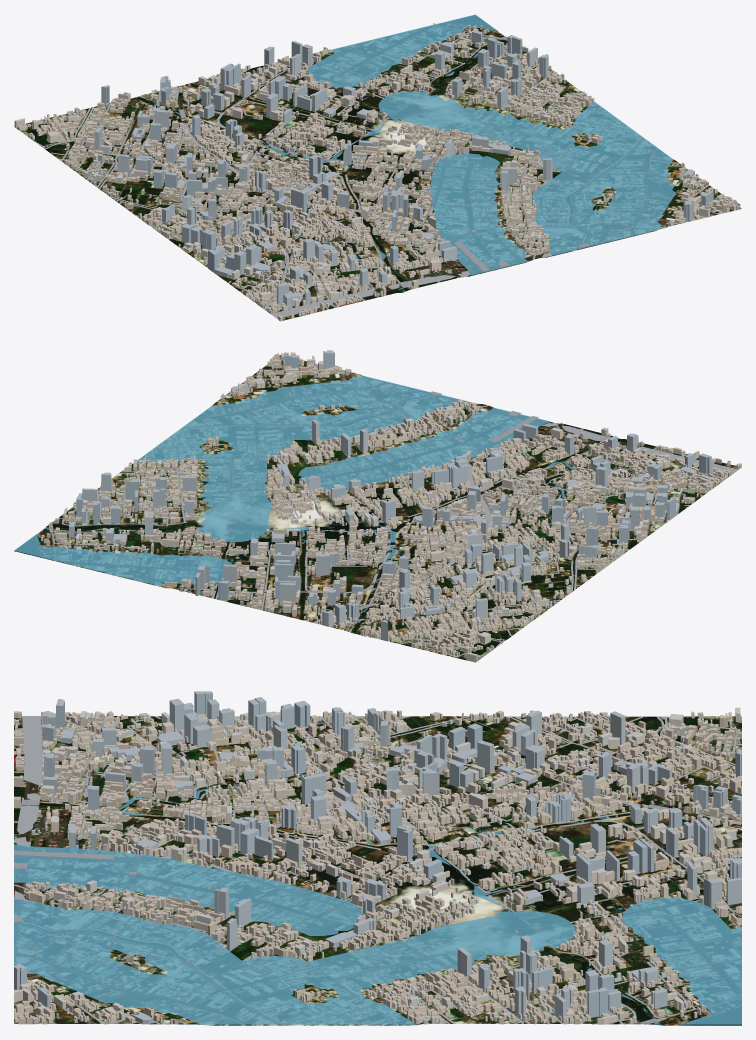
The picture shows the model from 3 angles, top to bottom: view 1: azimuth 30°, elevation 25°; view 2: azimuth 150°, elevation 25°; view 3: azimuth 270°, elevation 25°; orthographic projection. The views are drawn at different scales.
Visible parts, largest first — view 1: TERRAIN, BLDG_SHOPHOUSE, WATER, BLDG_TUBE_HOUSE, BLDG_MODERN_TOWER, ROAD_METRO, BLDG_INDUSTRIAL_PORT; view 2: TERRAIN, BLDG_SHOPHOUSE, WATER, BLDG_TUBE_HOUSE, BLDG_MODERN_TOWER, ROAD_METRO, BLDG_INDUSTRIAL_PORT; view 3: TERRAIN, BLDG_SHOPHOUSE, WATER, BLDG_TUBE_HOUSE, BLDG_MODERN_TOWER, ROAD_METRO, BLDG_INDUSTRIAL_PORT.
Part boxes in pixels (x1,y1,x2,y2): TERRAIN: (14,15,741,320); BLDG_SHOPHOUSE: (17,24,740,321); WATER: (136,14,675,291); BLDG_TUBE_HOUSE: (14,25,739,318); BLDG_MODERN_TOWER: (94,30,713,308); ROAD_METRO: (35,23,725,318); BLDG_INDUSTRIAL_PORT: (132,50,694,299); TERRAIN: (14,355,739,662); BLDG_SHOPHOUSE: (46,352,741,659); WATER: (14,376,576,633); BLDG_TUBE_HOUSE: (41,353,737,662); BLDG_MODERN_TOWER: (69,350,713,641); ROAD_METRO: (48,363,738,657); BLDG_INDUSTRIAL_PORT: (113,385,694,615); TERRAIN: (14,716,741,1025); BLDG_SHOPHOUSE: (14,710,741,1024); WATER: (14,763,741,1024); BLDG_TUBE_HOUSE: (14,707,741,1025); BLDG_MODERN_TOWER: (14,691,741,1021); ROAD_METRO: (14,716,741,1024); BLDG_INDUSTRIAL_PORT: (60,710,645,1024).
Size of the model in its own units: 2000 by 89.85 by 2000.
7 materials, 1 textured.
